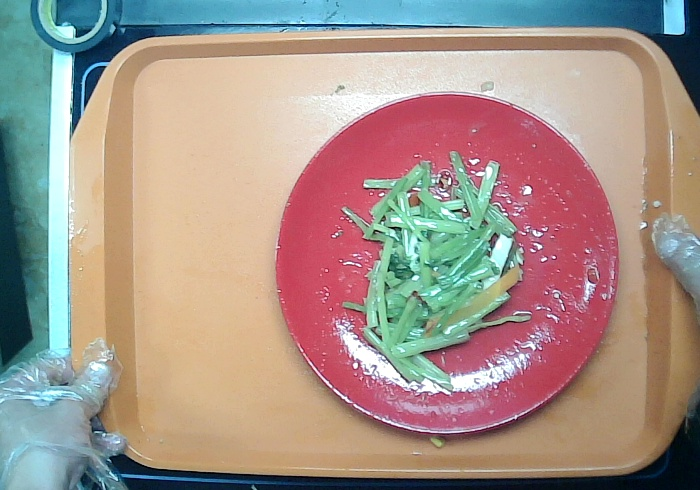HZYJPL-Hong_Se_Yuan_Pan: (270, 83, 622, 441)
